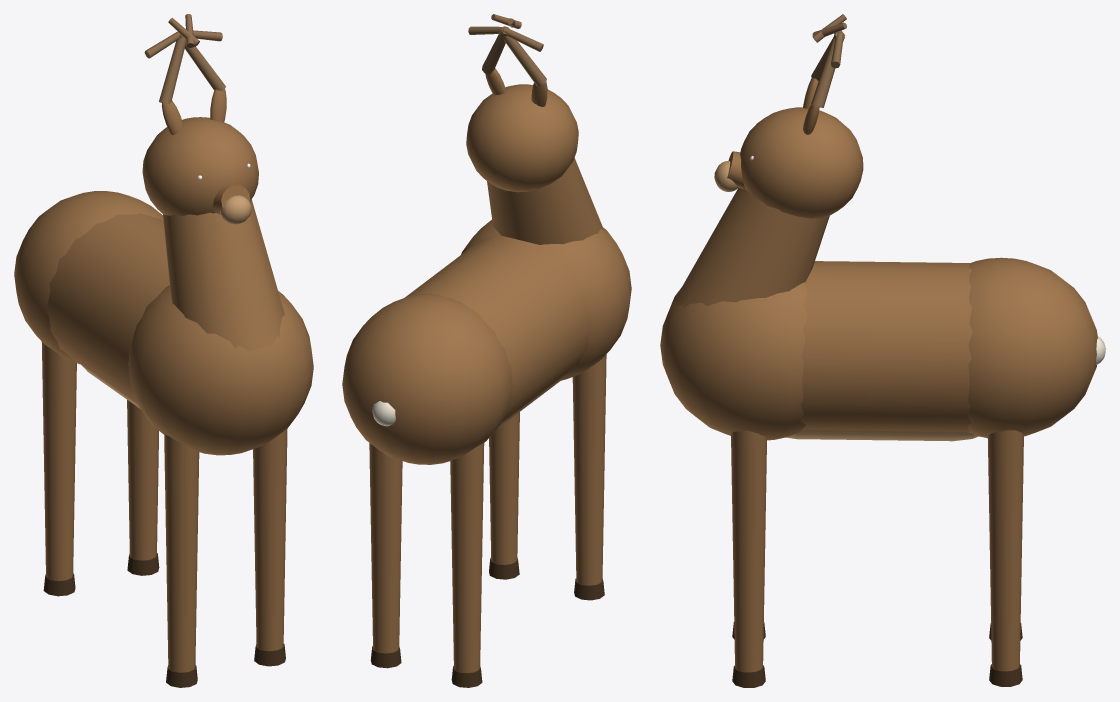
File: h15-rusa.glb
The picture shows the model from 3 angles, left to right: view 1: azimuth 30°, elevation 25°; view 2: azimuth 150°, elevation 25°; view 3: azimuth 270°, elevation 25°; orthographic projection. The views are drawn at different scales.
Visible parts, largest first — view 1: Rusa, head, neck; view 2: Rusa, head, neck; view 3: Rusa, head, neck.
Part boxes in pixels (x1,y1,x2,y2): Rusa: (14,191,313,687); head: (142,14,258,224); neck: (163,199,284,350); Rusa: (342,220,631,687); head: (466,14,578,192); neck: (487,158,603,244); Rusa: (660,257,1105,687); head: (714,14,863,218); neck: (675,188,829,308).
Size of the model in its own units: 0.4 by 1.48 by 0.9331.
